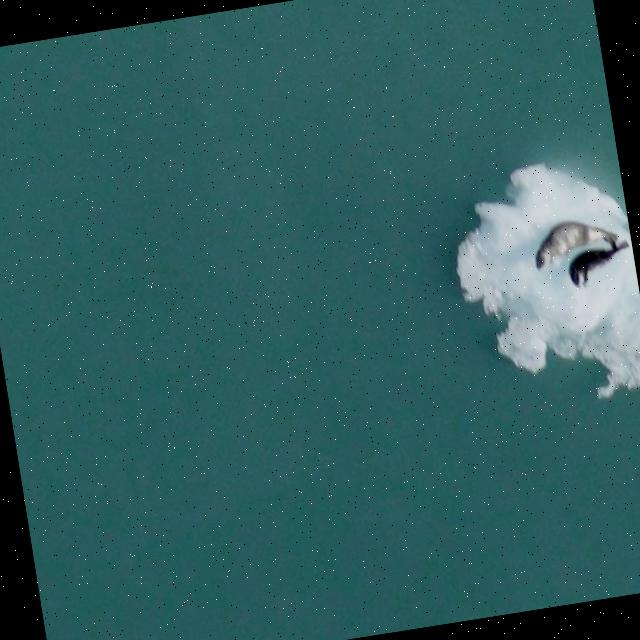seal: (536, 221, 618, 268), (570, 243, 628, 287)
